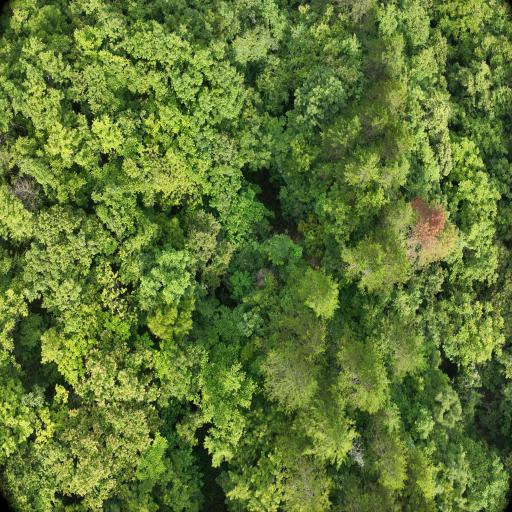sick-tree: (416, 198, 439, 232)
